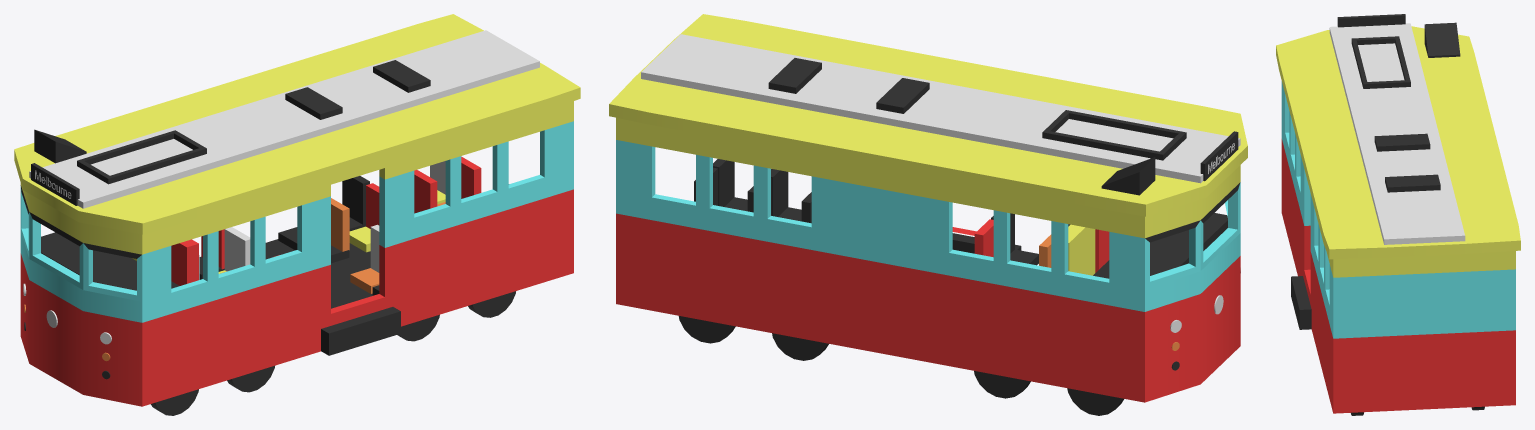
The model's file is Train.glb.
3 views of the same model, side by side, from view 1: azimuth 30°, elevation 25°; view 2: azimuth 150°, elevation 25°; view 3: azimuth 270°, elevation 25° (orthographic). The views are drawn at different scales.
Visible parts, largest first — view 1: Box22168, Box22158, Box22180, Box22166, Box22181, Box22150, Box22157, Box22172, Box22156, Box22185, Box22161, Box22171 (+9 smaller); view 2: Box22168, Box22166, Box22158, Box22151, Box22156, Box22157, Box22172, Cylinder1003, Cylinder999, Cylinder1004, Cylinder1000, Box22171 (+3 smaller); view 3: Box22168, Box22166, Box22156, Box22172, Box22157, Box22180, Box22171.
Part boxes in pixels (left/top/right/bottom): Box22168: left=14, top=14, right=580, bottom=406; Box22158: left=41, top=232, right=179, bottom=290; Box22180: left=321, top=307, right=400, bottom=355; Box22166: left=77, top=130, right=206, bottom=184; Box22181: left=265, top=239, right=372, bottom=308; Box22150: left=171, top=239, right=198, bottom=285; Box22157: left=373, top=60, right=430, bottom=92; Box22172: left=285, top=87, right=342, bottom=119; Box22156: left=34, top=129, right=86, bottom=163; Box22185: left=224, top=227, right=250, bottom=271; Box22161: left=342, top=176, right=369, bottom=224; Box22171: left=31, top=163, right=79, bottom=205; Box22168: left=609, top=14, right=1247, bottom=402; Box22166: left=1042, top=110, right=1186, bottom=160; Box22158: left=1093, top=213, right=1227, bottom=278; Box22151: left=1068, top=224, right=1095, bottom=275; Box22156: left=1101, top=157, right=1155, bottom=195; Box22157: left=768, top=58, right=821, bottom=93; Box22172: left=876, top=78, right=929, bottom=113; Cylinder1003: left=1067, top=388, right=1123, bottom=415; Cylinder999: left=772, top=333, right=828, bottom=360; Cylinder1004: left=678, top=316, right=735, bottom=343; Cylinder1000: left=974, top=371, right=1030, bottom=398; Box22171: left=1200, top=131, right=1238, bottom=181; Box22168: left=1276, top=23, right=1520, bottom=413; Box22166: left=1351, top=36, right=1410, bottom=88; Box22156: left=1424, top=22, right=1460, bottom=57; Box22172: left=1374, top=133, right=1430, bottom=151; Box22157: left=1385, top=174, right=1440, bottom=192; Box22180: left=1291, top=276, right=1311, bottom=329; Box22171: left=1337, top=14, right=1405, bottom=27.
Bounding box in the file's own units: 1047 × 472 × 485.
